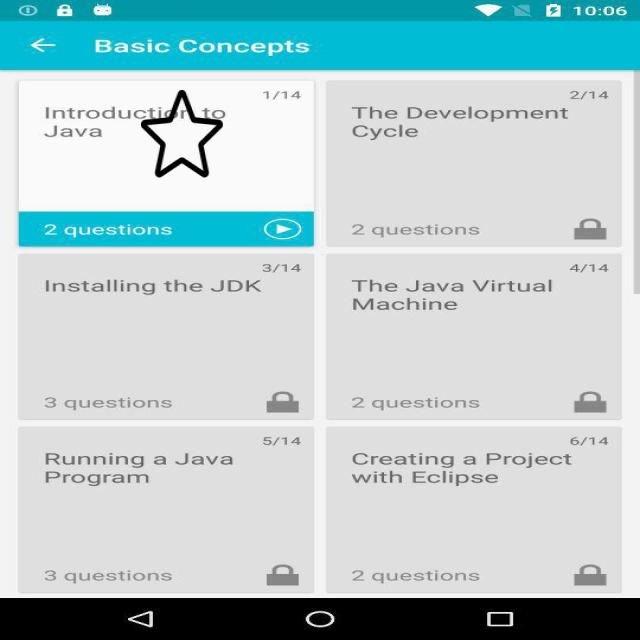forced continuity: (141, 88, 223, 179)
